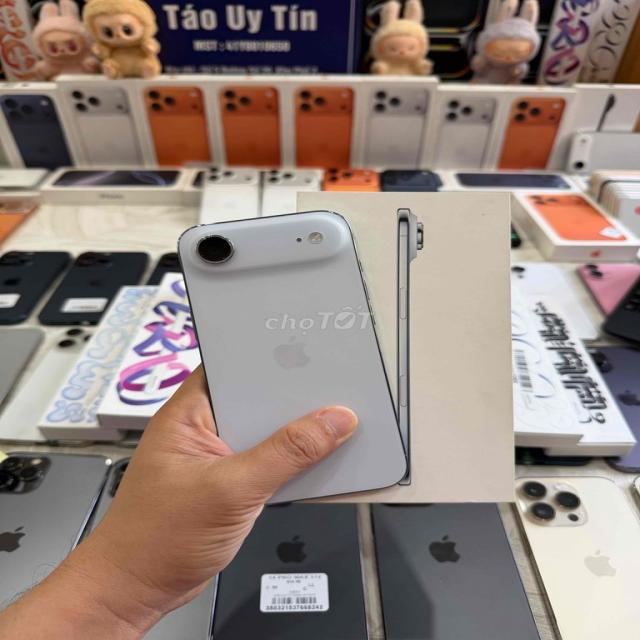gen_17: (172, 200, 417, 500)
